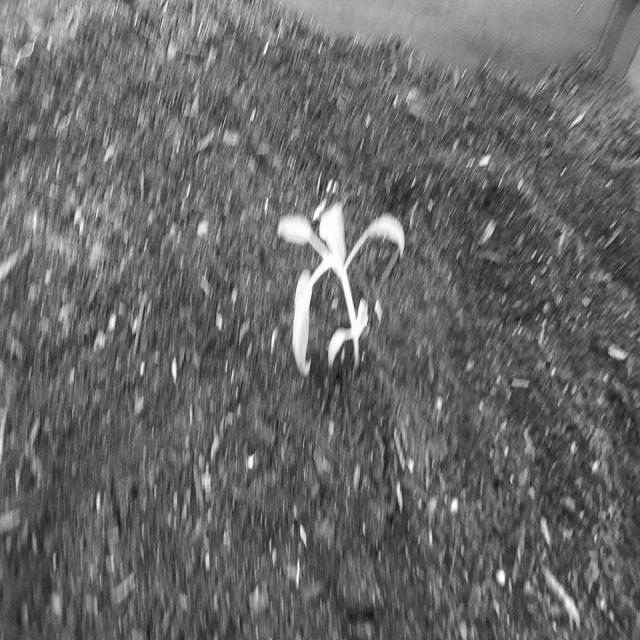Healthy: (270, 167, 412, 393)
